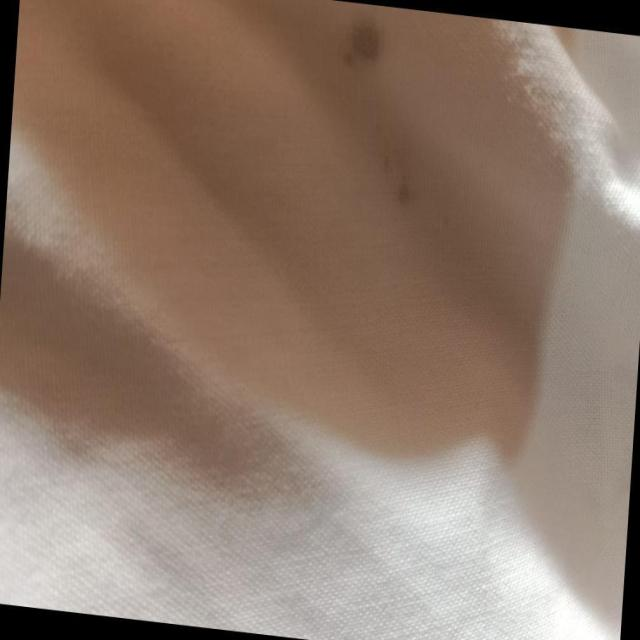stain: (368, 128, 428, 228), (332, 4, 390, 82)
